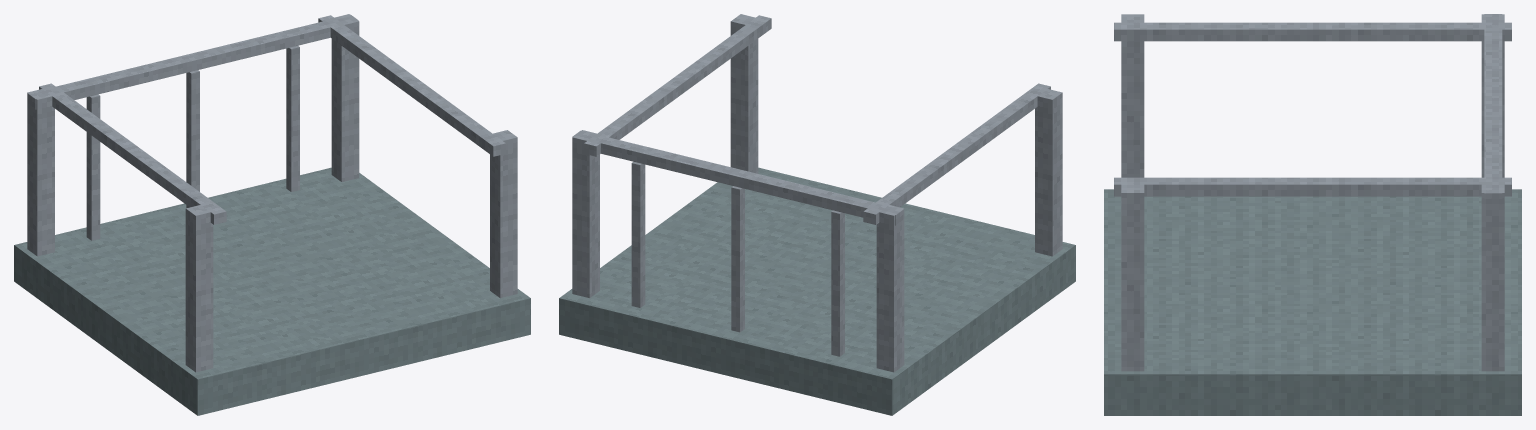
File: level_blockout_cinder_escape_landing.glb
The picture shows the model from 3 angles, left to right: view 1: azimuth 30°, elevation 25°; view 2: azimuth 150°, elevation 25°; view 3: azimuth 270°, elevation 25°; orthographic projection. The views are drawn at different scales.
Visible parts, largest first — view 1: level_blockout_cinder_escape_landing; view 2: level_blockout_cinder_escape_landing; view 3: level_blockout_cinder_escape_landing.
Part boxes in pixels (left/top/right/bottom): level_blockout_cinder_escape_landing: left=14, top=14, right=530, bottom=415; level_blockout_cinder_escape_landing: left=559, top=14, right=1075, bottom=415; level_blockout_cinder_escape_landing: left=1104, top=14, right=1521, bottom=415.
Size of the model in its own units: 2.67 by 1.5 by 2.55.
Materials: 2 (2 with a texture image).
